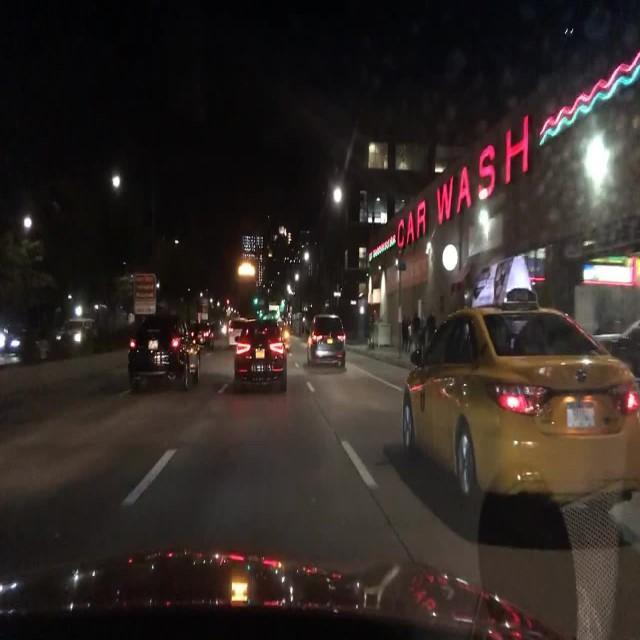normal: (404, 304, 640, 511), (117, 302, 208, 401), (222, 313, 294, 397), (308, 314, 349, 367)
